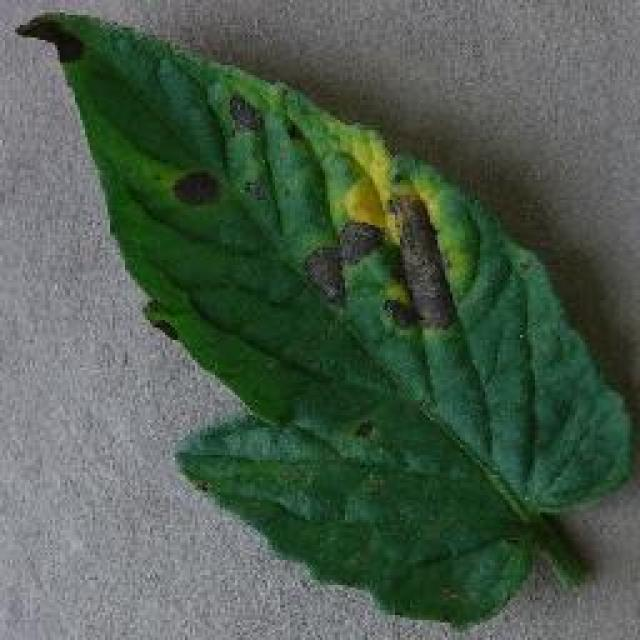Tomato Early blight leaf: (21, 9, 636, 601)
